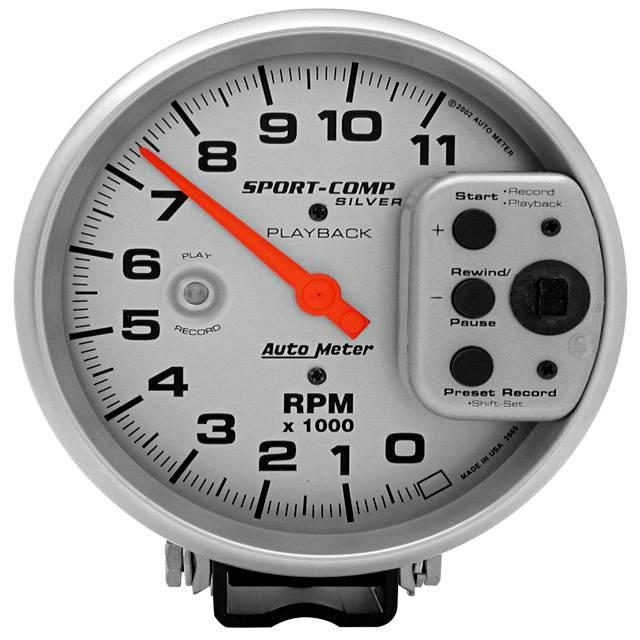Needle_Tip: (104, 139, 186, 173)
Needle_base: (286, 259, 351, 329)
max_value: (403, 127, 470, 177)
min_value: (378, 423, 434, 475)
